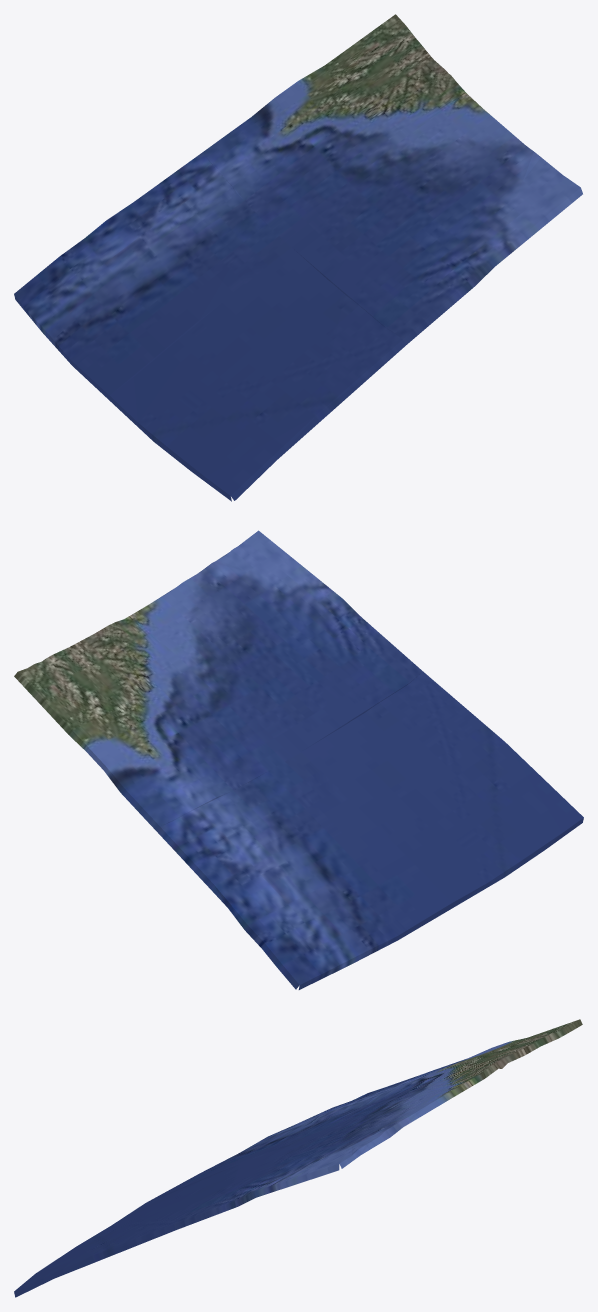
3 views of the same model, one above another, from view 1: azimuth 30°, elevation 25°; view 2: azimuth 150°, elevation 25°; view 3: azimuth 330°, elevation 25° (orthographic). The views are drawn at different scales.
Bounding box in the file's own units: 600302 × 338682 × 701490.
Materials: 1 (1 with a texture image).
